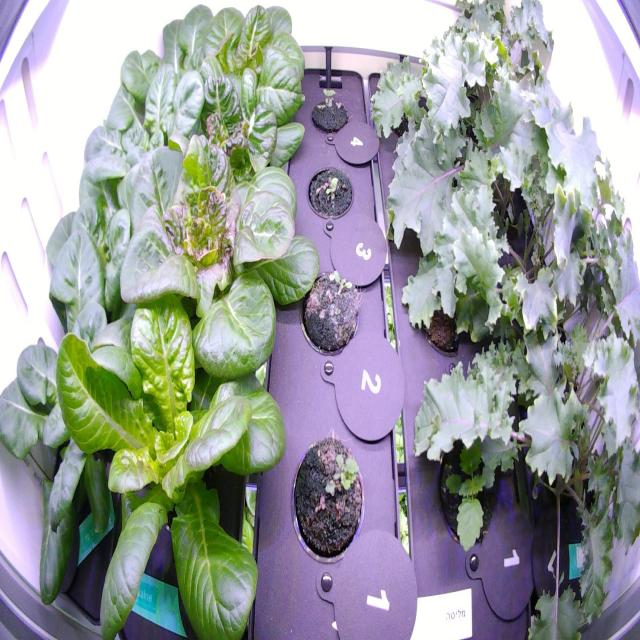germination: (282, 421, 369, 584), (290, 250, 365, 362), (302, 152, 357, 229), (305, 74, 352, 142)
young: (55, 264, 296, 636), (110, 116, 326, 401), (1, 298, 170, 628), (26, 143, 178, 367), (159, 47, 317, 200), (75, 54, 212, 227), (112, 0, 234, 166), (176, 0, 312, 104)
